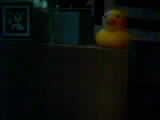duck: (94, 8, 133, 45)
